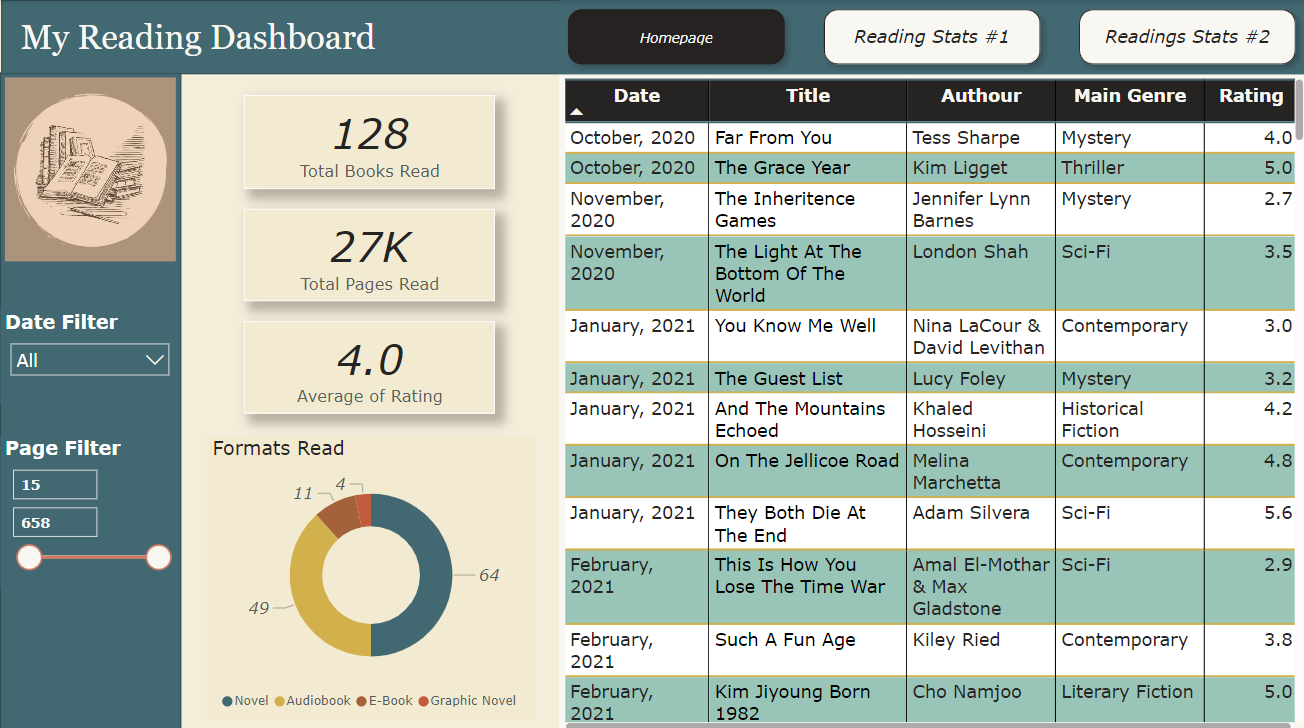

The page's visual inventory and layout, read from the dashboard file:
{"tool":"powerbi","page":{"name":"Homepage","canvas":[1280,720],"ordinal":0},"visuals":[{"type":"shape","box":[0,71.2,177.3,649.2],"z":0},{"type":"shape","box":[1.5,0,1278.5,72.6],"z":1000},{"type":"slicer","title":"Date Filter","fields":{"Values":["DateTable.Date.Variation.Date Hierarchy.Year","DateTable.Date.Variation.Date Hierarchy.Month"]},"box":[0,303.3,175.6,92.9],"z":2000},{"type":"tableEx","fields":{"Values":["DateTable.Date","Book_Data.Title","Book_Data.Authour","Genre.Main Genre","Book_Data.Rating"]},"box":[546.6,72.1,733.7,648.1],"z":3000},{"type":"card","fields":{"Values":["Book_Data.Title"]},"box":[238.5,92.9,245.8,91.7],"z":4000},{"type":"card","fields":{"Values":["Book_Data.Pages"]},"box":[238.7,203.8,245.7,90.8],"z":5000},{"type":"card","fields":{"Values":["Book_Data.Rating"]},"box":[238.5,314.3,245.8,90.5],"z":6000},{"type":"donutChart","title":"Formats Read","fields":{"Category":["Format.Format"],"Y":["Book_Data.Title"]},"box":[203,426.8,320.4,277.6],"z":7000},{"type":"image","box":[0,71.2,177.3,189.9],"z":8000},{"type":"slicer","title":"Page Filter","fields":{"Values":["Book_Data.Pages"]},"box":[0,426.8,176.1,146.7],"z":9000},{"type":"pageNavigator","box":[547.1,0,732.9,72.6],"z":10000}]}

Visuals, with their boxes in screenshot pixels (x1, y1, x2, y2), scaled from the page's 1280x720 canvas onto the 1304x728 screenshot:
shape: (0, 72, 181, 727)
shape: (2, 0, 1303, 73)
"Date Filter" slicer: (0, 307, 179, 401)
tableEx - DateTable.Date x Book_Data.Title: (557, 73, 1303, 727)
card - Book_Data.Title: (243, 94, 493, 187)
card - Book_Data.Pages: (243, 206, 493, 298)
card - Book_Data.Rating: (243, 318, 493, 409)
"Formats Read" donutChart: (207, 432, 533, 712)
image: (0, 72, 181, 264)
"Page Filter" slicer: (0, 432, 179, 580)
pageNavigator: (557, 0, 1303, 73)
